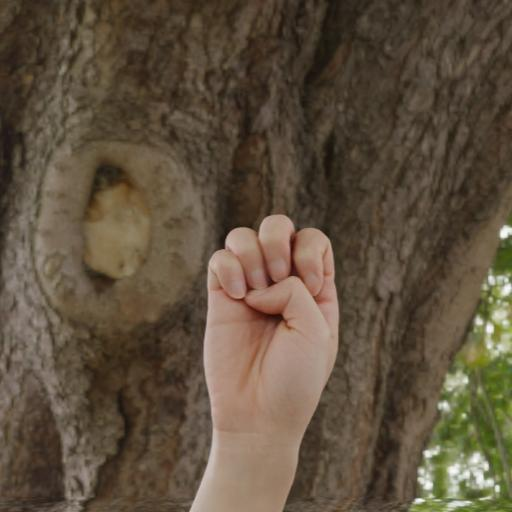E: (198, 211, 344, 444)
